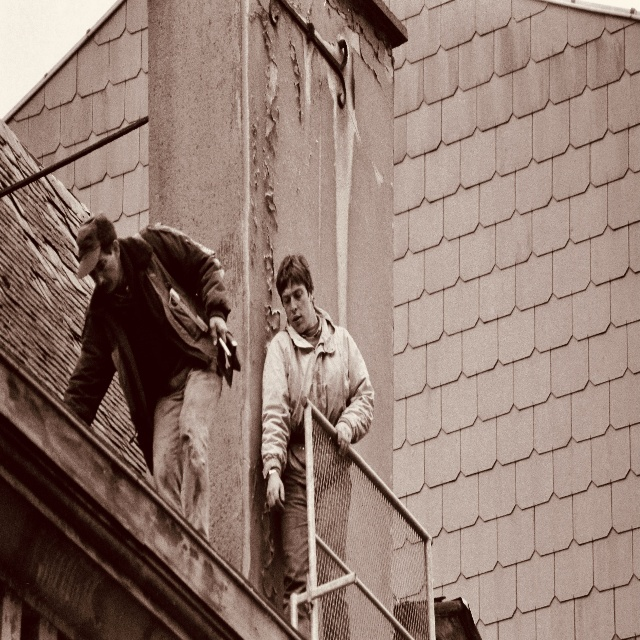Sin_guantes: (266, 470, 285, 513), (335, 421, 352, 458), (209, 314, 228, 346)
